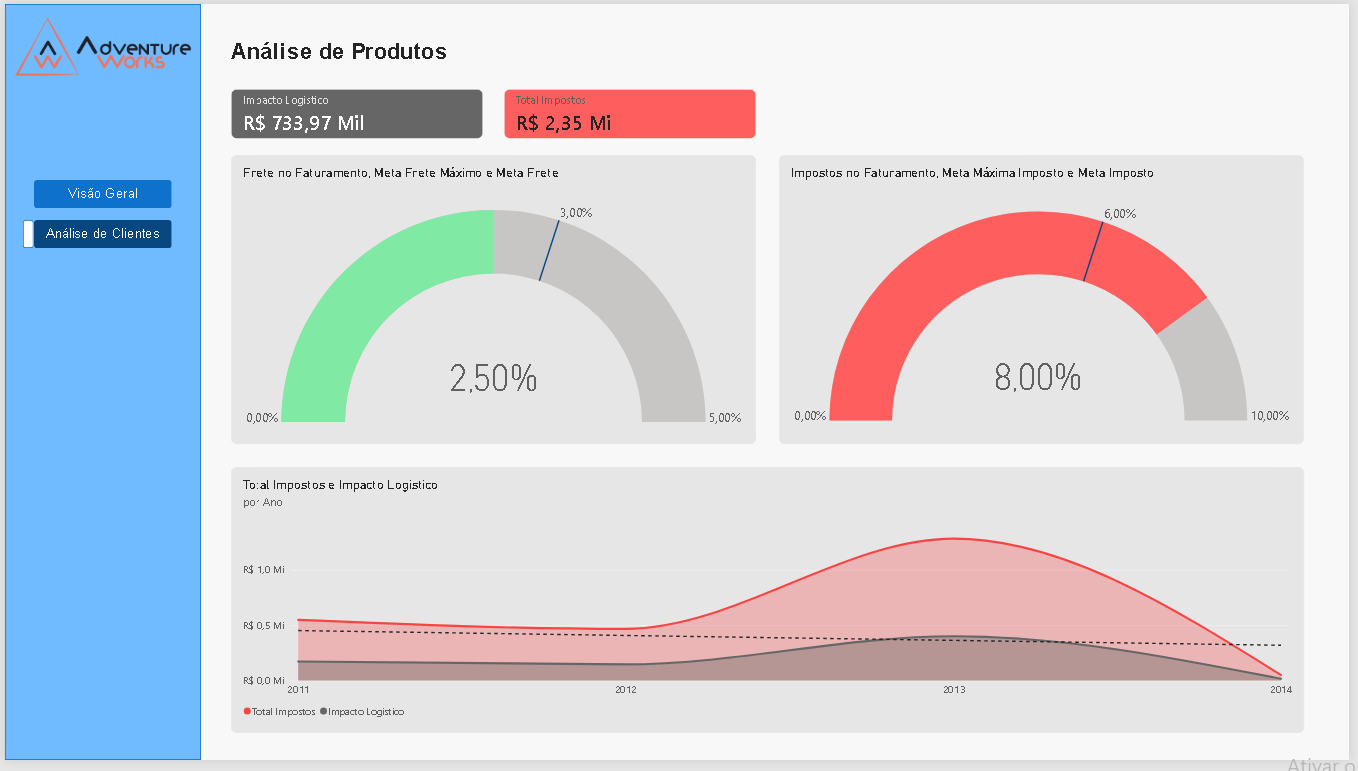

The page's visual inventory and layout, read from the dashboard file:
{"tool":"powerbi","page":{"name":"Análise de Produtos","canvas":[1920,1080],"ordinal":2},"visuals":[{"type":"shape","box":[0,0,280,1080],"z":0},{"type":"image","box":[0,0,280,122],"z":1000},{"type":"textbox","box":[323.3,48.3,360,40],"z":2000},{"type":"cardVisual","fields":{"Data":["FactInternetSales.Impacto Logistico"]},"box":[323.3,121.7,360,71.7],"z":4000},{"type":"actionButton","box":[41.7,250.8,196.7,40],"z":9000},{"type":"actionButton","box":[41.7,308.3,196.7,40],"z":10000},{"type":"cardVisual","fields":{"Data":["FactInternetSales.Total Descontos"]},"box":[712.9,121.4,360,71.7],"z":11001},{"type":"lineChart","title":"Evolução Temporal dos Custos Operacionais","fields":{"Category":["DimDate.FullDateAlternateKey.Variation.Hierarquia de datas.Ano","DimDate.FullDateAlternateKey.Variation.Hierarquia de datas.Trimestre","DimDate.FullDateAlternateKey.Variation.Hierarquia de datas.Mês","DimDate.FullDateAlternateKey.Variation.Hierarquia de datas.Dia"],"Y":["FactInternetSales.Total Impostos","FactInternetSales.Impacto Logistico"]},"box":[322.9,661.4,1532.9,380],"z":11002},{"type":"gauge","title":"% do Frete no Faturamento","fields":{"MaxValue":["FactInternetSales.Meta Frete Máximo"],"TargetValue":["FactInternetSales.Meta Frete"],"Y":["FactInternetSales.Frete no Faturamento"]},"box":[322.9,215.7,750,412.9],"z":11003},{"type":"gauge","title":"% de Impostos no Faturamento","fields":{"MaxValue":["FactInternetSales.Meta Máxima Imposto"],"TargetValue":["FactInternetSales.Meta Imposto"],"Y":["FactInternetSales.Impostos no Faturamento"]},"box":[1105.7,215.7,750,412.9],"z":11004},{"type":"actionButton","box":[41.7,361.2,196.7,40],"z":11005},{"type":"shape","box":[25,361,12,40],"z":11006}]}

Visuals, with their boxes on the page's 1920x1080 design canvas (x1, y1, x2, y2). These are canvas units, not pixel positions in the 1358x771 screenshot, which may show the page scaled, cropped or inside an application window:
shape: <bbox>0, 0, 280, 1080</bbox>
image: <bbox>0, 0, 280, 122</bbox>
textbox: <bbox>323, 48, 683, 88</bbox>
cardVisual - FactInternetSales.Impacto Logistico: <bbox>323, 122, 683, 193</bbox>
actionButton: <bbox>42, 251, 238, 291</bbox>
actionButton: <bbox>42, 308, 238, 348</bbox>
cardVisual - FactInternetSales.Total Descontos: <bbox>713, 121, 1073, 193</bbox>
"Evolução Temporal dos Custos Operacionais" lineChart: <bbox>323, 661, 1856, 1041</bbox>
"% do Frete no Faturamento" gauge: <bbox>323, 216, 1073, 629</bbox>
"% de Impostos no Faturamento" gauge: <bbox>1106, 216, 1856, 629</bbox>
actionButton: <bbox>42, 361, 238, 401</bbox>
shape: <bbox>25, 361, 37, 401</bbox>
